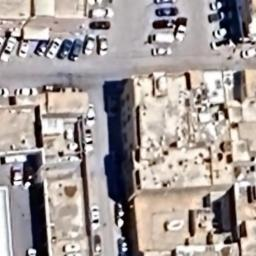SUV: (88, 5, 116, 20)
pickup: (172, 13, 188, 43), (206, 10, 236, 24)
sedan: (0, 34, 18, 62), (88, 202, 103, 230), (83, 101, 98, 128), (82, 128, 98, 153), (56, 37, 74, 59), (68, 34, 82, 62), (154, 4, 181, 18), (45, 37, 62, 59), (13, 85, 41, 98), (81, 32, 96, 55), (213, 26, 239, 39), (96, 32, 110, 56), (89, 19, 114, 32), (150, 46, 176, 58), (210, 38, 236, 50), (34, 39, 51, 57), (18, 35, 30, 59), (11, 166, 24, 188), (208, 0, 236, 10), (240, 47, 256, 60), (0, 86, 14, 98)
van: (148, 30, 178, 46)
